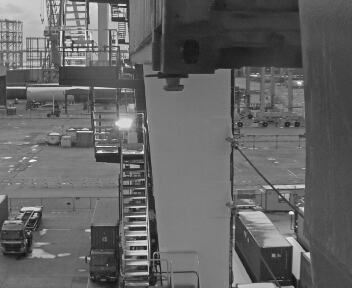twist_lock_1: (151, 66, 193, 99)
